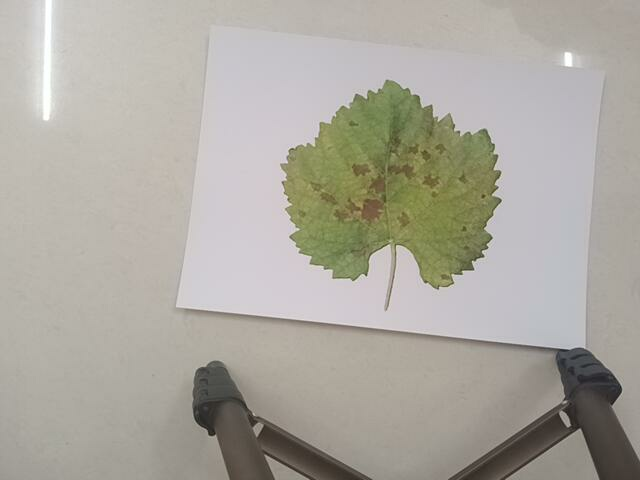Grape_Leaf_Vine_Disease: (274, 74, 534, 309)
